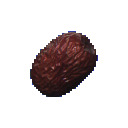gd: (26, 25, 117, 103)
